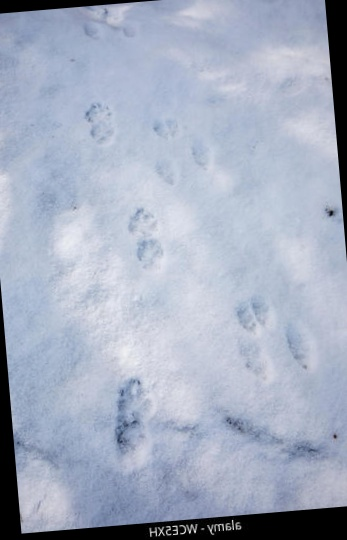fox: (90, 371, 172, 481), (108, 195, 182, 284), (140, 103, 214, 192), (76, 94, 123, 157)
